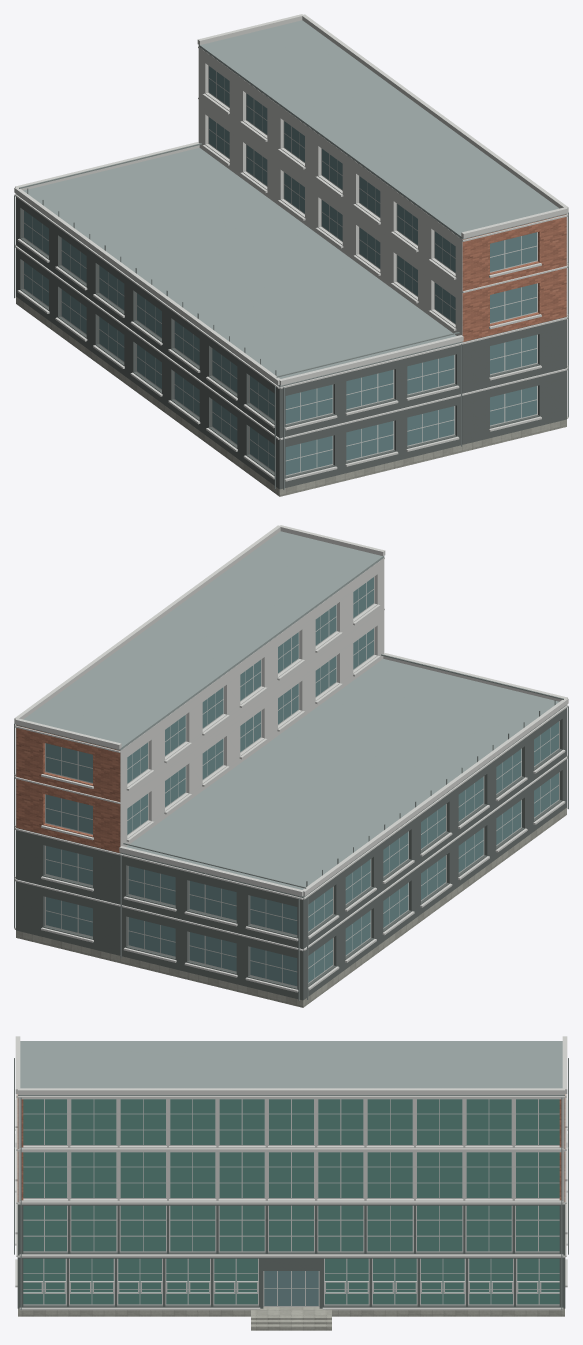
3 views of the same model, one above another, from view 1: azimuth 30°, elevation 25°; view 2: azimuth 150°, elevation 25°; view 3: azimuth 270°, elevation 25° (orthographic). The views are drawn at different scales.
Parts seen in each view (by area): view 1: west__roof, west__white, west__dark, west__glass, west__brick, west__frame, west__stone, west__steel; view 2: west__roof, west__white, west__dark, west__glass, west__brick, west__frame, west__stone, west__steel; view 3: west__green-glass, west__roof, west__white, west__frame, west__dark, west__stone, west__glass, west__stair-courtyard, west__steel, west__brick, west__threshold-courtyard.
Part boxes in pixels (x1,y1,x2,y2): west__roof: (23,20,566,386); west__white: (14,14,568,481); west__dark: (16,194,566,489); west__glass: (24,66,536,475); west__brick: (462,214,566,341); west__frame: (23,65,537,476); west__stone: (16,297,566,496); west__steel: (14,143,568,489); west__roof: (16,531,559,897); west__white: (14,525,568,992); west__dark: (16,705,566,1000); west__glass: (46,577,558,986); west__brick: (16,725,120,852); west__frame: (45,576,559,987); west__stone: (16,808,566,1007); west__steel: (14,654,568,1000); west__green-glass: (23,1099,559,1304); west__roof: (18,1041,564,1095); west__white: (15,1036,567,1310); west__frame: (23,1099,559,1306); west__dark: (17,1202,565,1308); west__stone: (18,1307,564,1316); west__glass: (264,1271,318,1305); west__stair-courtyard: (251,1315,331,1330); west__steel: (14,1058,568,1309); west__brick: (17,1094,565,1201); west__threshold-courtyard: (251,1308,331,1315).
Bounding box in the file's own units: 24.38 × 16.04 × 35.51.
9 materials, 5 textured.
